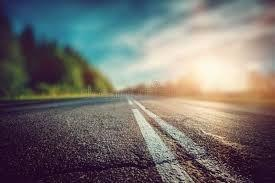road: (0, 97, 274, 182), (131, 97, 274, 182)
